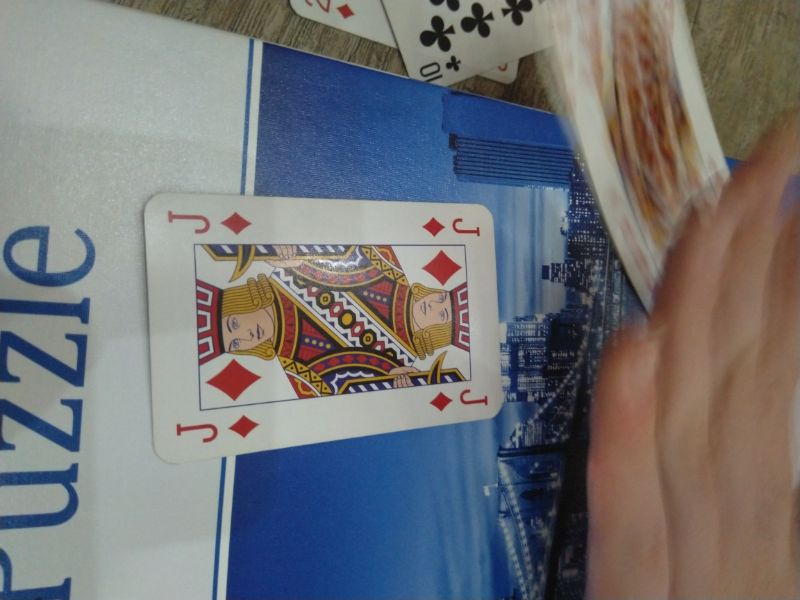Jd: (163, 206, 258, 239), (174, 411, 264, 445), (418, 211, 485, 243), (428, 385, 493, 415)
Tc: (413, 51, 469, 87)
